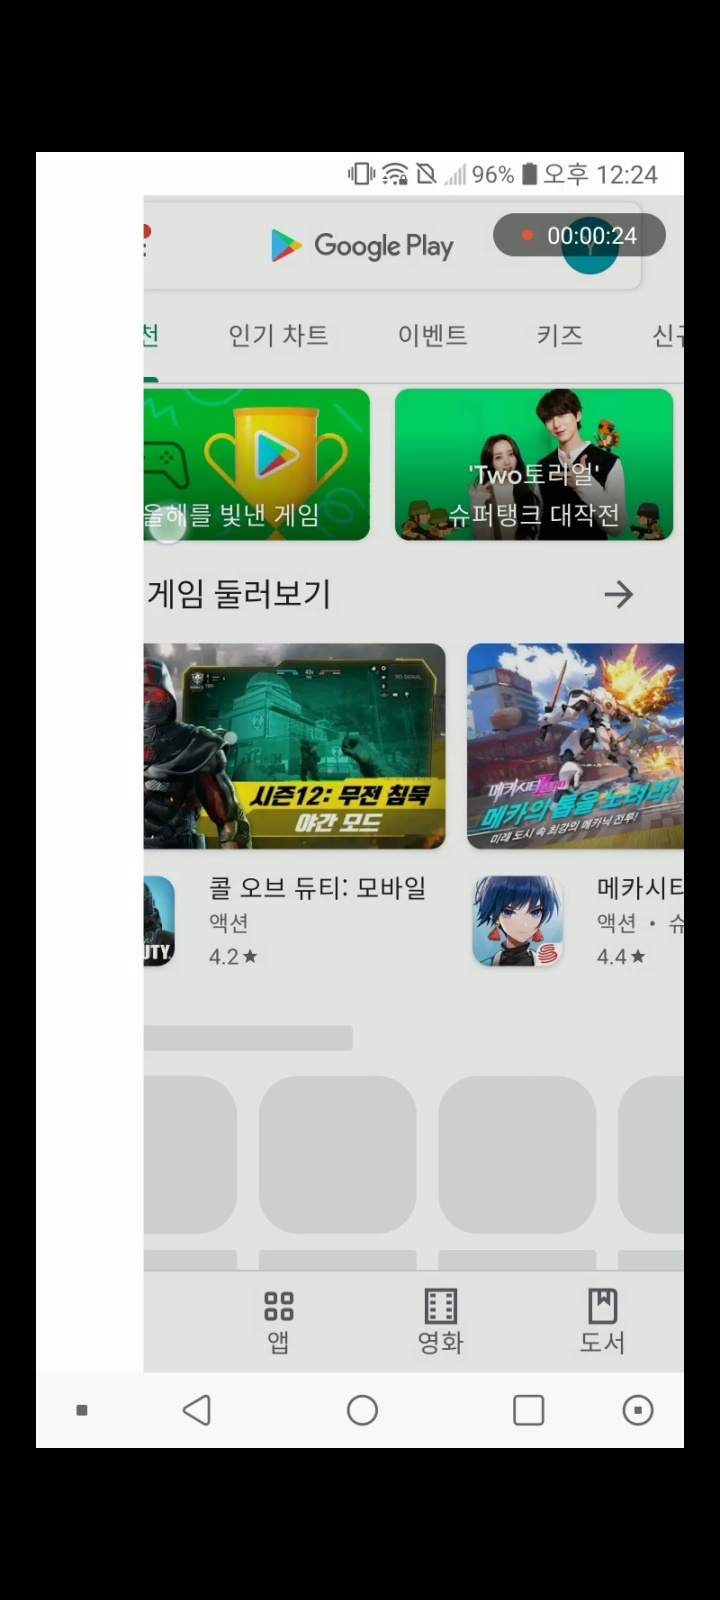Cursor: (148, 504, 193, 549)
